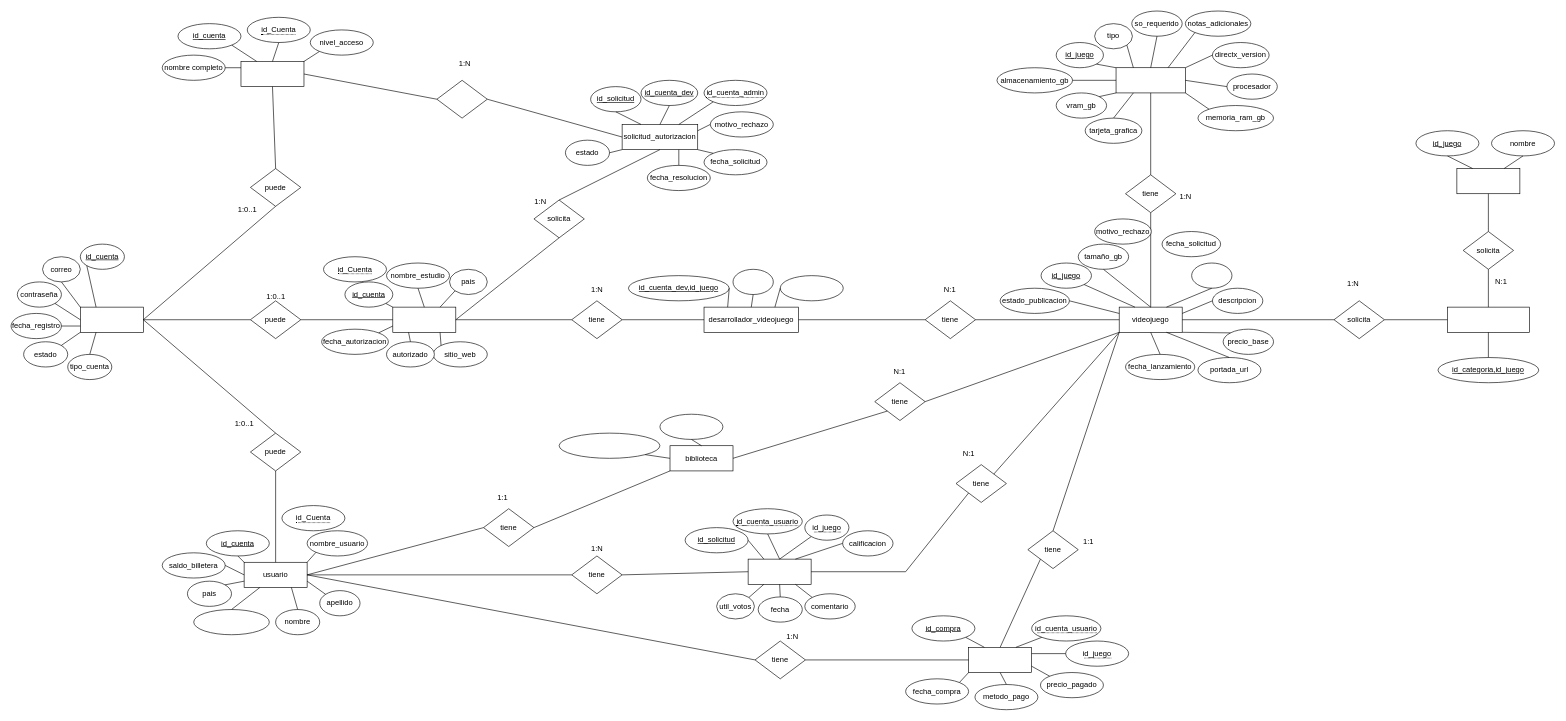
Image size: 1566x721. Some labels were removed from this diagram. The centre of each missing label's shape, as x and y in pixels:
administrador: the point at 272,74
categoria: the point at 1488,181
compra: the point at 1000,660
concede: the point at 461,99
Cuenta: the point at 111,319
desarrollador: the point at 424,319
fecha agregado: the point at 691,426
fecha_asociacion: the point at 811,288
fecha_nacimiento: the point at 231,622
id_cuenta_usuario,id_juego: the point at 609,445
requisitos_sistema: the point at 1150,80
reseña: the point at 779,571
rol: the point at 752,282
tituto: the point at 1211,275
videojuego_categoria: the point at 1488,319
